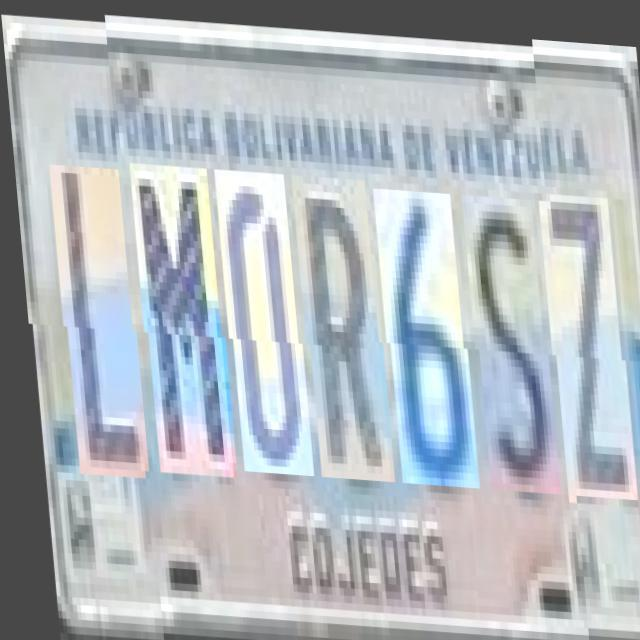0: (215, 166, 306, 472)
6: (374, 183, 472, 482)
L: (50, 157, 140, 470)
M: (130, 162, 229, 474)
R: (292, 171, 387, 477)
S: (462, 188, 552, 487)
Z: (540, 192, 630, 498)
